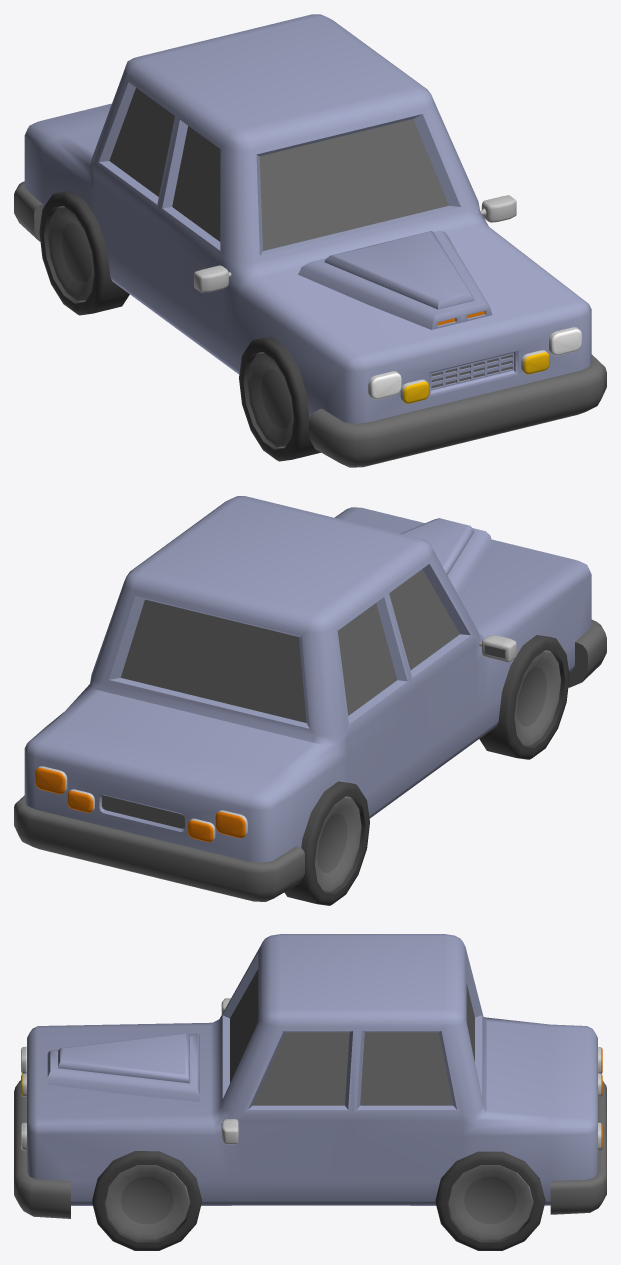
The model's file is Car_3B.fbx.
3 renders of one model, top to bottom at view 1: azimuth 30°, elevation 25°; view 2: azimuth 150°, elevation 25°; view 3: azimuth 270°, elevation 25°, orthographic. The views are drawn at different scales.
Visible parts, largest first — view 1: Car_3B; view 2: Car_3B; view 3: Car_3B.
Part boxes in pixels (x1=…): Car_3B: x1=14, y1=14, x2=606, y2=467; Car_3B: x1=14, y1=496, x2=606, y2=905; Car_3B: x1=14, y1=934, x2=606, y2=1250.
Size of the model in its own units: 0.3141 by 0.2457 by 0.5921.
